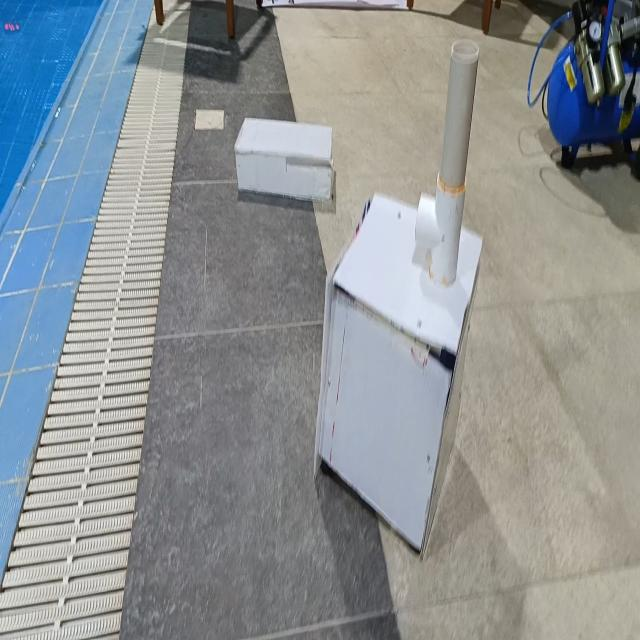Cube: (313, 189, 484, 557)
Cuboid: (234, 115, 334, 202)
